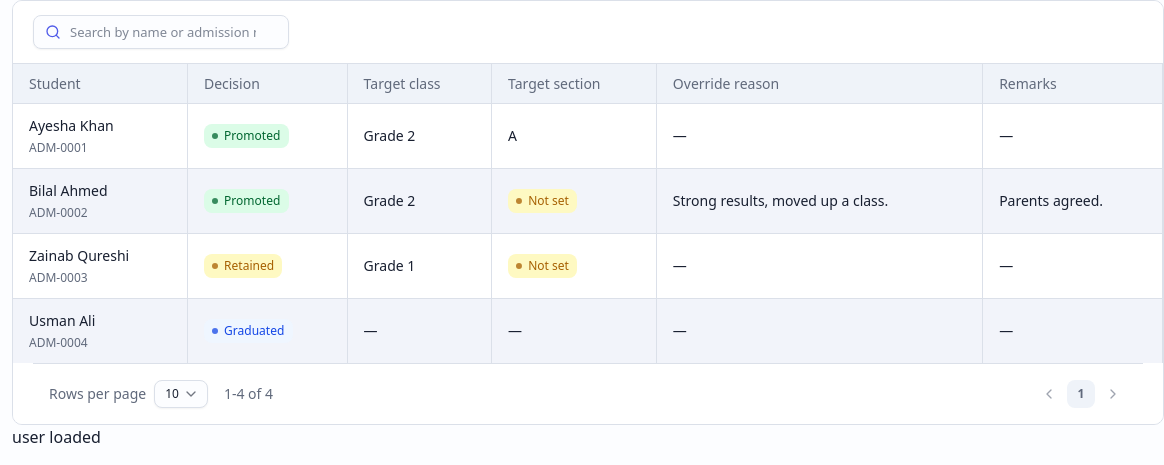
PromotionDecisionTable › search › finds a student by admission number
Expected: the text "user loaded" is shown, [12,426,101,448]
Type "adm-0003" into the field named "Search students".
click(161, 32); type("adm-0003")  # box [33,15,289,49]
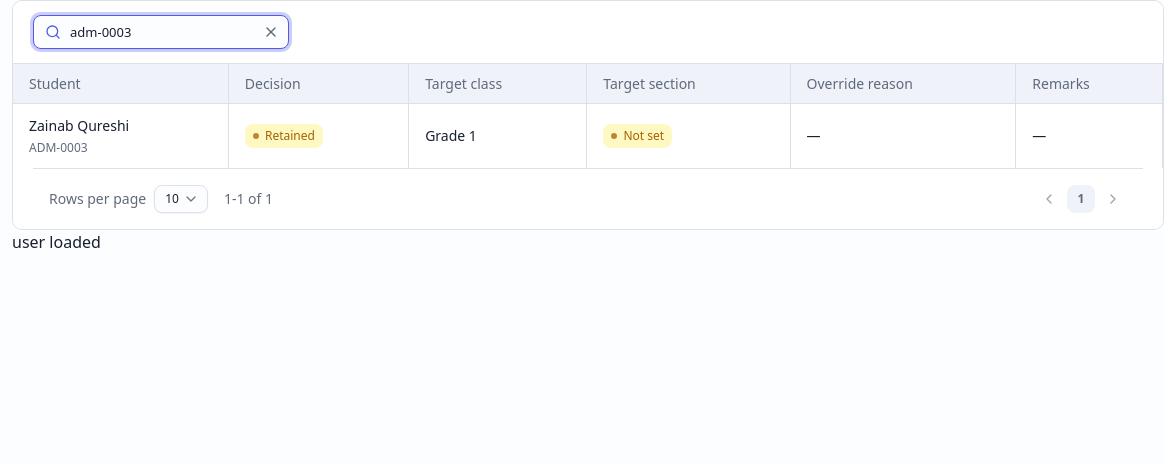
Expected: the text "Zainab Qureshi" is shown, [29,116,129,135]
Expected: the text "Bilal Ahmed" is gone
